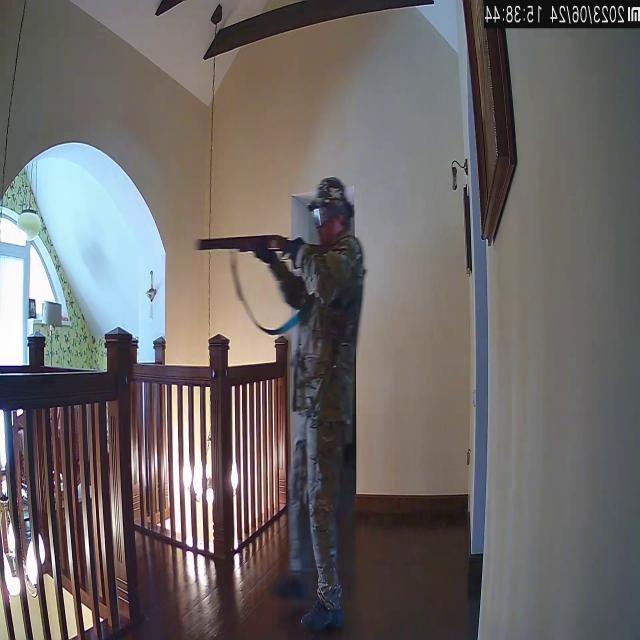pistol: (195, 230, 324, 266)
